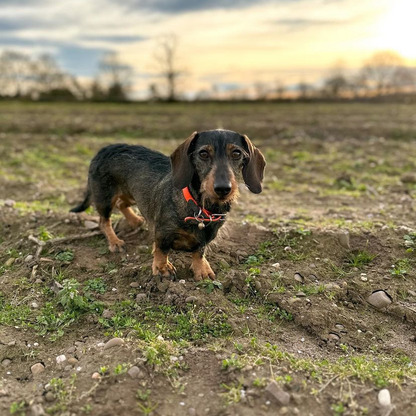dachshund: (66, 127, 287, 292)
